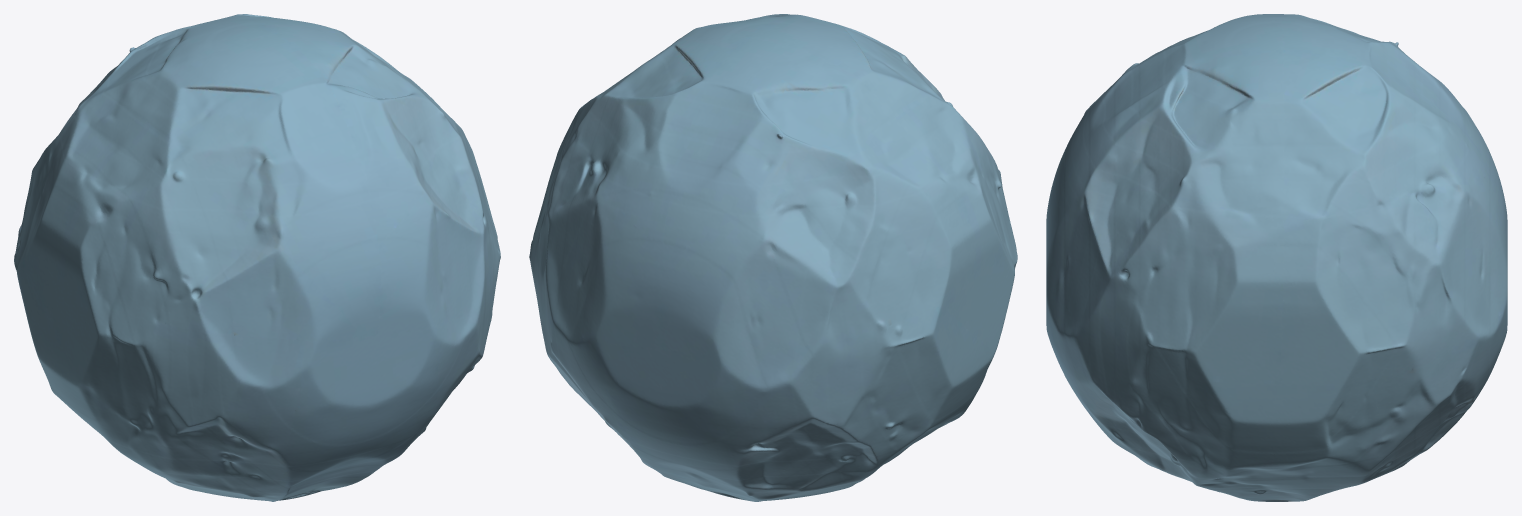
The model's file is detailed_realistic_model_crystalball_18.glb.
3 renders of one model, left to right at view 1: azimuth 30°, elevation 25°; view 2: azimuth 150°, elevation 25°; view 3: azimuth 270°, elevation 25°, orthographic.
Visible parts, largest first — view 1: tripo_node_ea7834d5-93be-469a-8c03-e031a8b4a78b; view 2: tripo_node_ea7834d5-93be-469a-8c03-e031a8b4a78b; view 3: tripo_node_ea7834d5-93be-469a-8c03-e031a8b4a78b.
Part boxes in pixels (<box>): tripo_node_ea7834d5-93be-469a-8c03-e031a8b4a78b: <box>14,14,500,501</box>; tripo_node_ea7834d5-93be-469a-8c03-e031a8b4a78b: <box>529,14,1017,501</box>; tripo_node_ea7834d5-93be-469a-8c03-e031a8b4a78b: <box>1046,14,1507,501</box>.
Bounding box in the file's own units: 0.9558 × 1 × 0.9515.
1 material, 1 textured.
